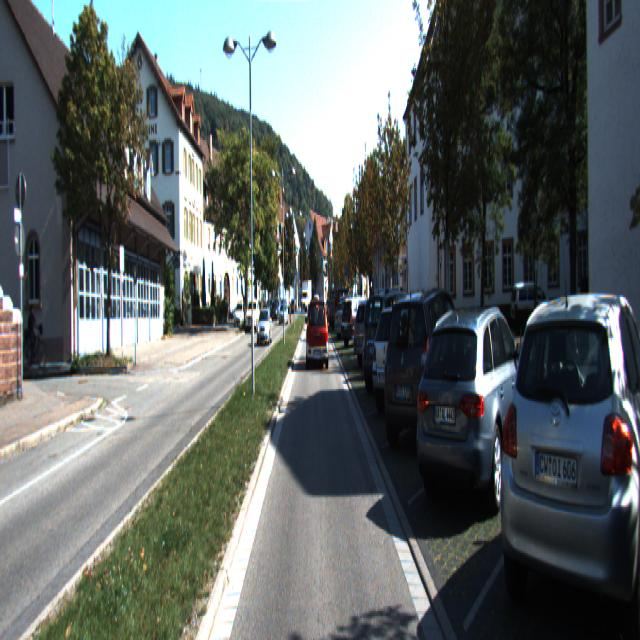Car: (496, 284, 640, 638), (412, 302, 536, 524), (380, 288, 474, 461), (369, 296, 451, 418), (359, 288, 429, 396), (352, 298, 404, 365), (340, 296, 379, 346), (307, 299, 329, 369), (333, 298, 365, 338), (257, 309, 273, 346), (245, 300, 260, 332), (234, 302, 244, 328)
DontCare: (274, 286, 303, 326)
Van: (329, 288, 356, 329)
